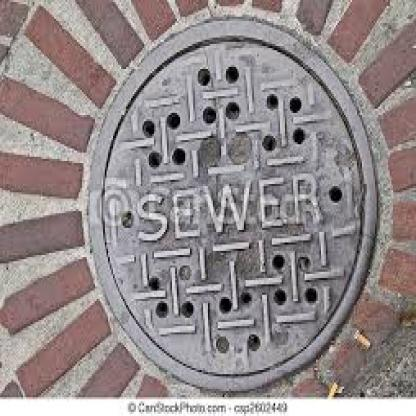closed manhole-not overflowing-: (80, 12, 380, 399)
